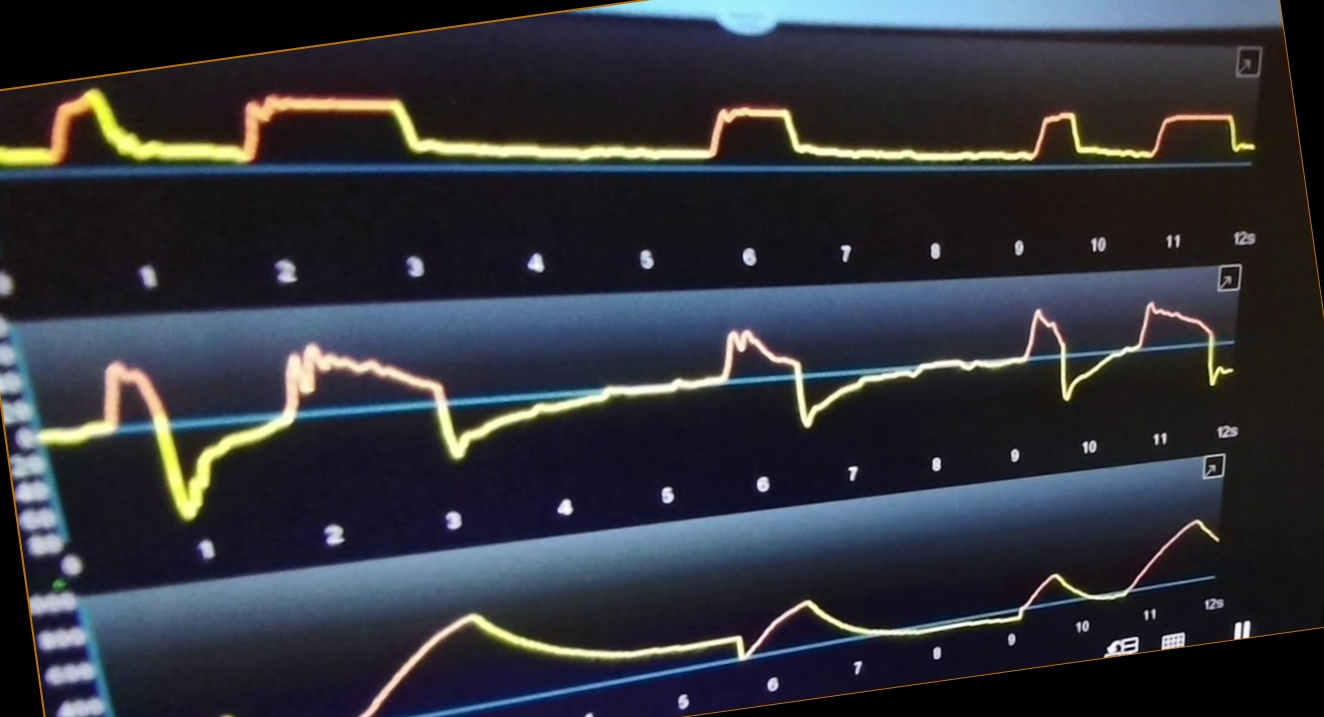Accumulation Flow: (40, 302, 1230, 508)
Volume: (348, 520, 1215, 716)
